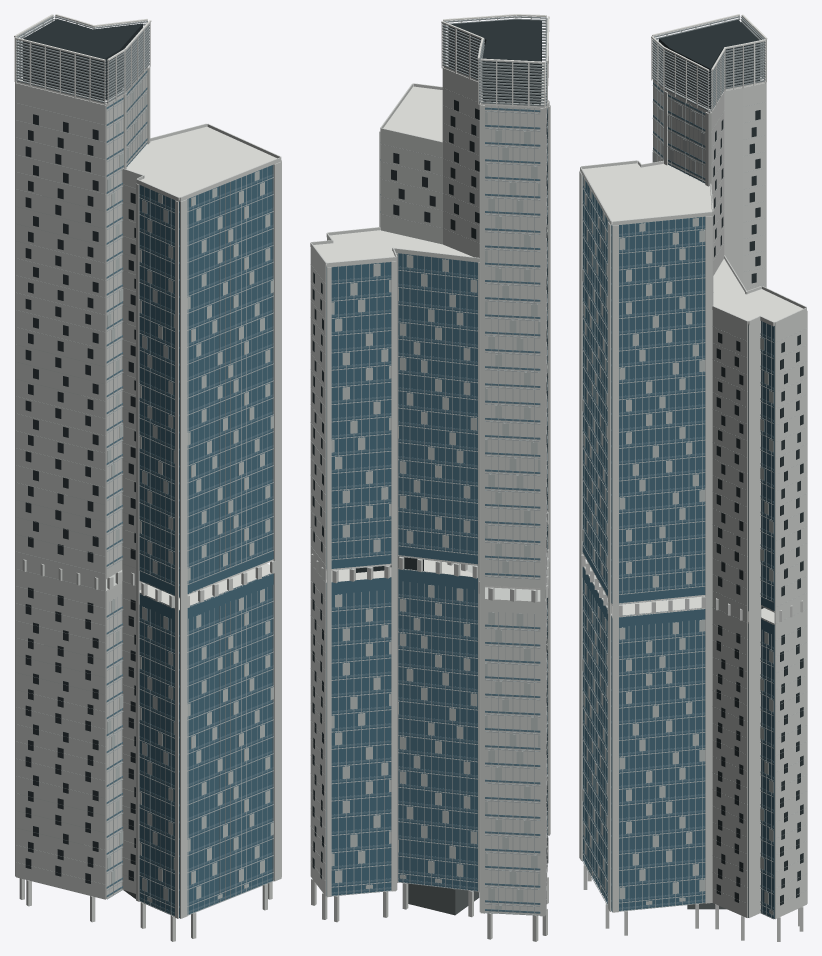
The model's file is bespoke-trimage-104.glb.
3 views of the same model, side by side, from view 1: azimuth 30°, elevation 25°; view 2: azimuth 150°, elevation 25°; view 3: azimuth 270°, elevation 25° (orthographic). The views are drawn at different scales.
Visible parts, largest first — view 1: 104_photo_specific_facades003, 104_stepped_wing_masses003_2, 104_photo_specific_facades003_3, 104_photo_specific_facades003_2, 104_photo_specific_facades003_1, 104_stepped_wing_masses003, 104_photo_specific_facades003_4, 104_stepped_wing_masses003_1, 104_louver_crowns003_3, 104_louver_crowns003_2, 104_pilotis_and_recessed_lobby003, 104_louver_crowns003_1 (+1 smaller); view 2: 104_stepped_wing_masses003_2, 104_photo_specific_facades003, 104_stepped_wing_masses003, 104_photo_specific_facades003_3, 104_photo_specific_facades003_1, 104_photo_specific_facades003_2, 104_stepped_wing_masses003_1, 104_louver_crowns003_3, 104_louver_crowns003_2, 104_photo_specific_facades003_4, 104_pilotis_and_recessed_lobby003, 104_louver_crowns003 (+2 smaller); view 3: 104_photo_specific_facades003, 104_stepped_wing_masses003_2, 104_photo_specific_facades003_3, 104_photo_specific_facades003_2, 104_photo_specific_facades003_1, 104_stepped_wing_masses003_1, 104_photo_specific_facades003_4, 104_louver_crowns003_3, 104_louver_crowns003_2, 104_stepped_wing_masses003, 104_louver_crowns003, 104_louver_crowns003_1 (+1 smaller).
Part boxes in pixels (bbox=[...]): 104_photo_specific_facades003: bbox=[15, 66, 281, 918]; 104_stepped_wing_masses003_2: bbox=[139, 165, 273, 918]; 104_photo_specific_facades003_3: bbox=[107, 70, 273, 918]; 104_photo_specific_facades003_2: bbox=[16, 79, 273, 902]; 104_photo_specific_facades003_1: bbox=[106, 70, 273, 916]; 104_stepped_wing_masses003: bbox=[18, 66, 148, 898]; 104_photo_specific_facades003_4: bbox=[25, 114, 135, 883]; 104_stepped_wing_masses003_1: bbox=[16, 78, 276, 610]; 104_louver_crowns003_3: bbox=[16, 16, 149, 103]; 104_louver_crowns003_2: bbox=[23, 19, 142, 100]; 104_pilotis_and_recessed_lobby003: bbox=[19, 559, 276, 941]; 104_louver_crowns003_1: bbox=[14, 14, 151, 105]; 104_stepped_wing_masses003_2: bbox=[326, 108, 547, 895]; 104_photo_specific_facades003: bbox=[310, 67, 550, 916]; 104_stepped_wing_masses003: bbox=[444, 67, 545, 914]; 104_photo_specific_facades003_3: bbox=[331, 106, 548, 915]; 104_photo_specific_facades003_1: bbox=[331, 107, 547, 913]; 104_photo_specific_facades003_2: bbox=[310, 88, 548, 909]; 104_stepped_wing_masses003_1: bbox=[313, 61, 545, 601]; 104_louver_crowns003_3: bbox=[442, 16, 547, 106]; 104_louver_crowns003_2: bbox=[448, 19, 541, 104]; 104_photo_specific_facades003_4: bbox=[312, 100, 547, 878]; 104_pilotis_and_recessed_lobby003: bbox=[311, 512, 549, 941]; 104_louver_crowns003: bbox=[310, 83, 549, 267]; 104_photo_specific_facades003: bbox=[579, 79, 807, 919]; 104_stepped_wing_masses003_2: bbox=[582, 176, 774, 918]; 104_photo_specific_facades003_3: bbox=[582, 81, 773, 919]; 104_photo_specific_facades003_2: bbox=[582, 86, 806, 915]; 104_photo_specific_facades003_1: bbox=[583, 82, 773, 917]; 104_stepped_wing_masses003_1: bbox=[582, 77, 802, 624]; 104_photo_specific_facades003_4: bbox=[713, 110, 803, 905]; 104_louver_crowns003_3: bbox=[652, 16, 766, 111]; 104_louver_crowns003_2: bbox=[659, 20, 760, 109]; 104_stepped_wing_masses003: bbox=[653, 80, 763, 186]; 104_louver_crowns003: bbox=[580, 160, 806, 326]; 104_louver_crowns003_1: bbox=[651, 14, 767, 113].
Size of the model in its own units: 39.12 by 150 by 37.58.
